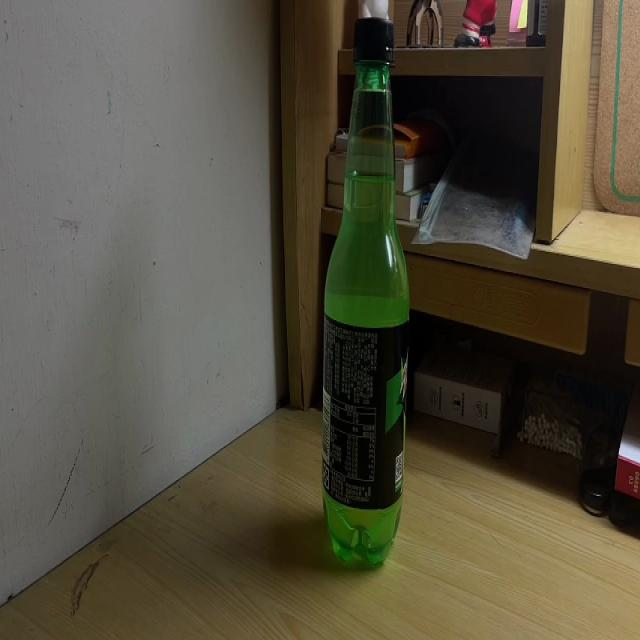Mountain-Dew: (323, 12, 413, 578)
